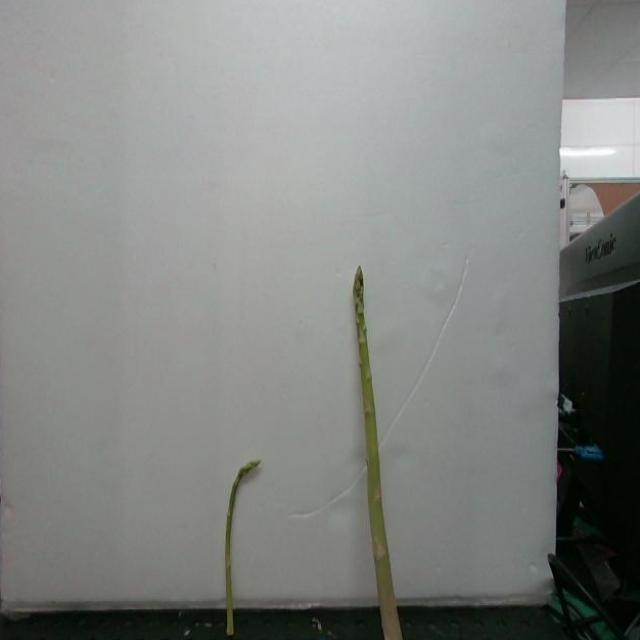aspargus: (353, 268, 406, 640), (224, 461, 260, 640)
